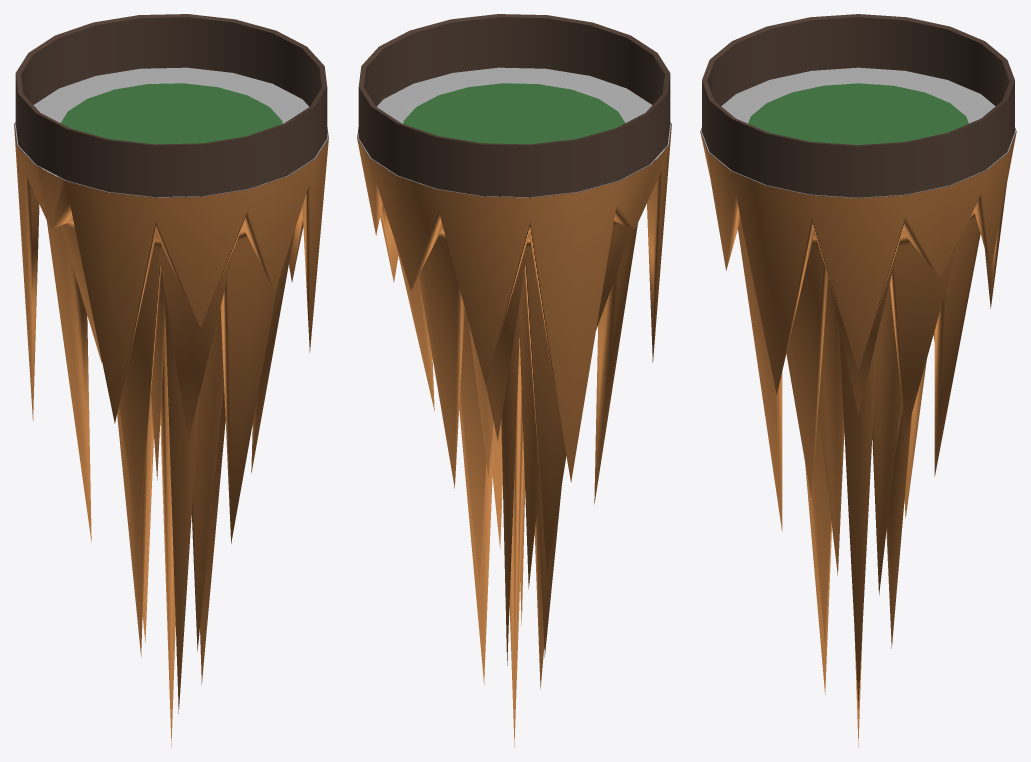
Rendered from Eiland2.fbx.
The picture shows the model from 3 angles, left to right: view 1: azimuth 30°, elevation 25°; view 2: azimuth 150°, elevation 25°; view 3: azimuth 270°, elevation 25°; orthographic projection.
Parts seen in each view (by area): view 1: pSphere1, pCylinder1; view 2: pSphere1, pCylinder1; view 3: pSphere1, pCylinder1.
Part boxes in pixels (bbox=[...]): pSphere1: bbox=[14, 67, 328, 747]; pCylinder1: bbox=[15, 14, 327, 197]; pSphere1: bbox=[357, 67, 671, 747]; pCylinder1: bbox=[358, 14, 670, 197]; pSphere1: bbox=[700, 67, 1016, 747]; pCylinder1: bbox=[702, 14, 1014, 197].
Size of the model in its own units: 2.79 by 6.5 by 2.79.
